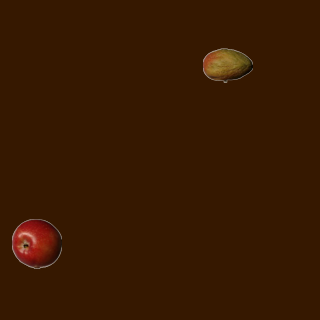Apple Braeburn: (11, 218, 61, 268)
Papaya: (202, 40, 252, 90)
